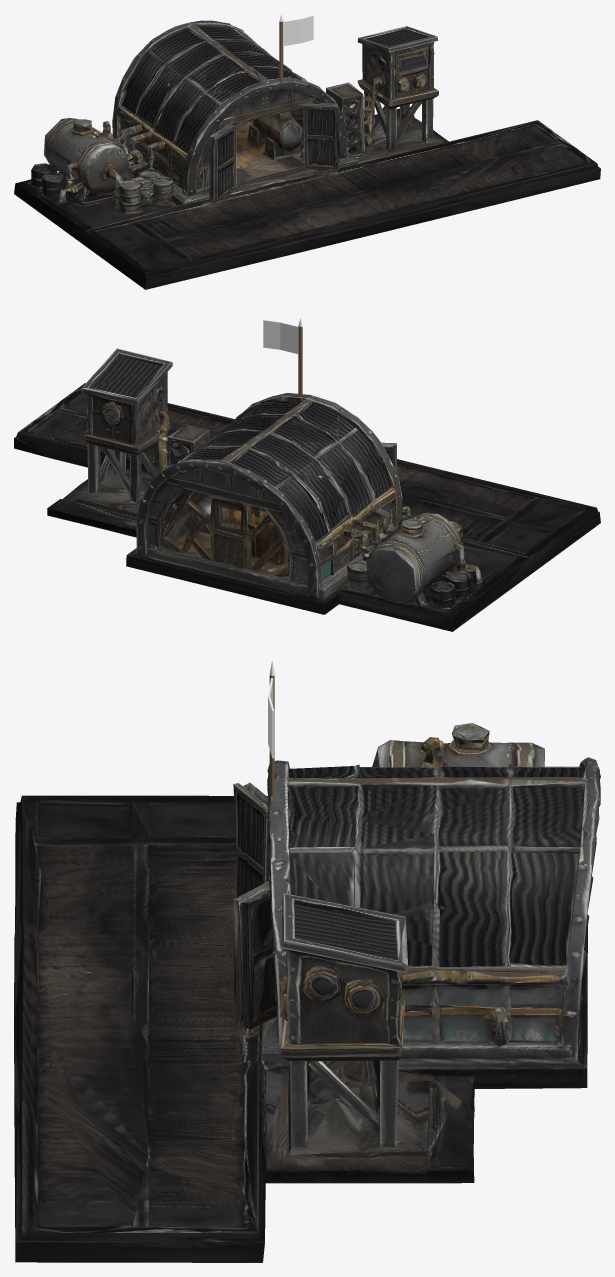
3 views of the same model, one above another, from view 1: azimuth 30°, elevation 25°; view 2: azimuth 150°, elevation 25°; view 3: azimuth 270°, elevation 25° (orthographic). The views are drawn at different scales.
Visible parts, largest first — view 1: airfield, Team_banner; view 2: airfield, Team_banner; view 3: airfield, Team_banner.
Part boxes in pixels (x1=…): airfield: x1=14, y1=20, x2=600, y2=289; Team_banner: x1=279, y1=14, x2=313, y2=83; airfield: x1=14, y1=348, x2=600, y2=631; Team_banner: x1=263, y1=318, x2=302, y2=394; airfield: x1=14, y1=723, x2=600, y2=1262; Team_banner: x1=268, y1=661, x2=274, y2=796.
Bounding box in the file's own units: 1.9 × 0.7156 × 1.07.
3 materials, 1 textured.
